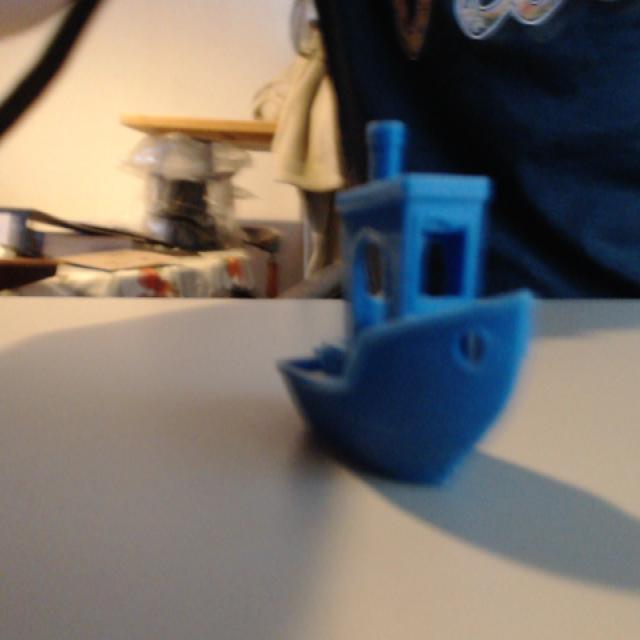benchy: (274, 116, 535, 488)
